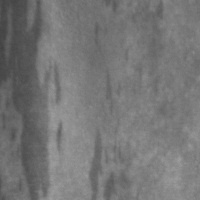inclusion: (1, 1, 64, 199), (115, 1, 167, 96), (88, 125, 133, 199), (100, 67, 119, 117), (90, 19, 107, 58)
